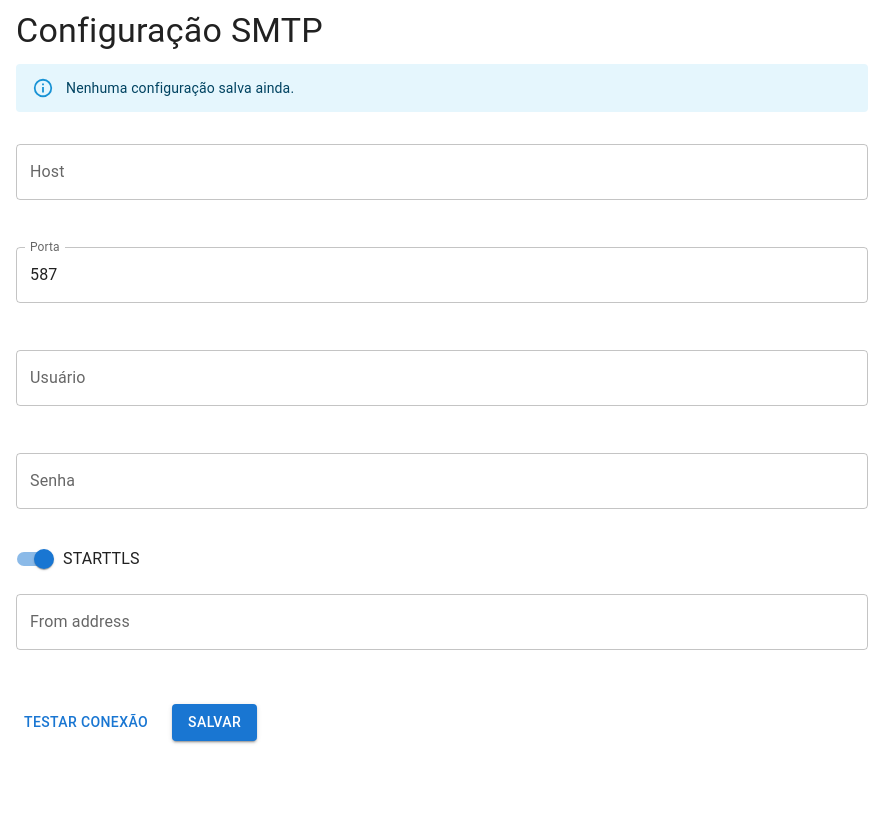
Scenario: SmtpConfigPage › SMTP_NOT_CONFIGURED: Testar conexao 422 exibe alert texto exato
Click the button "Testar conexão". click: (86, 723)
box: [16, 704, 156, 741]
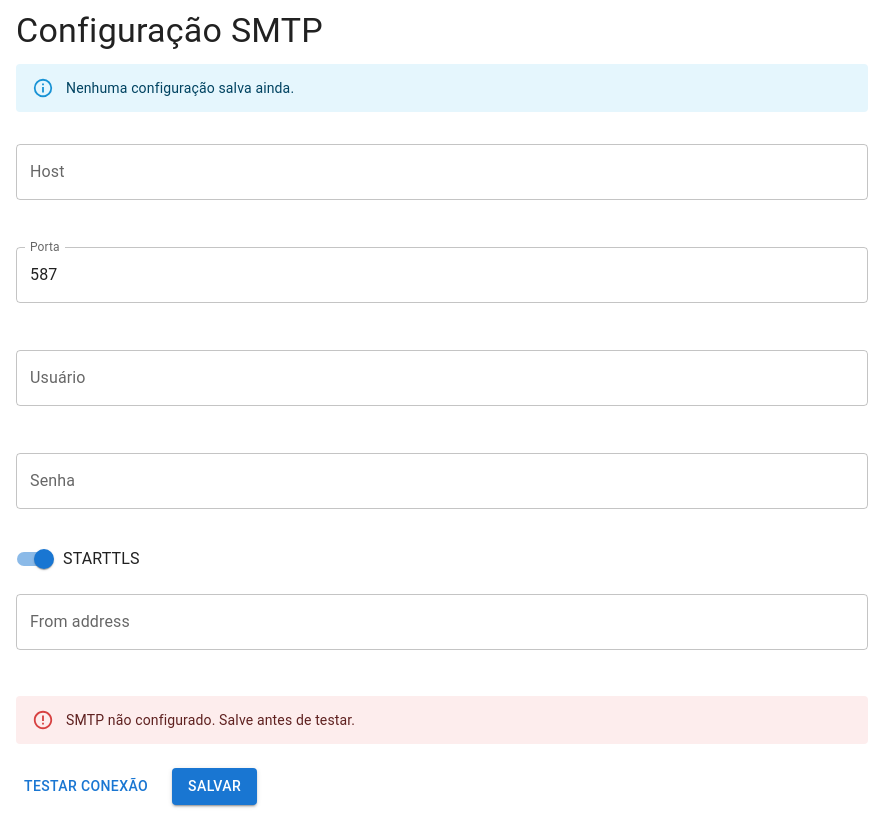
Expected: the text "SMTP não configurado. Salve antes de testar." is shown, [66, 712, 355, 728]
